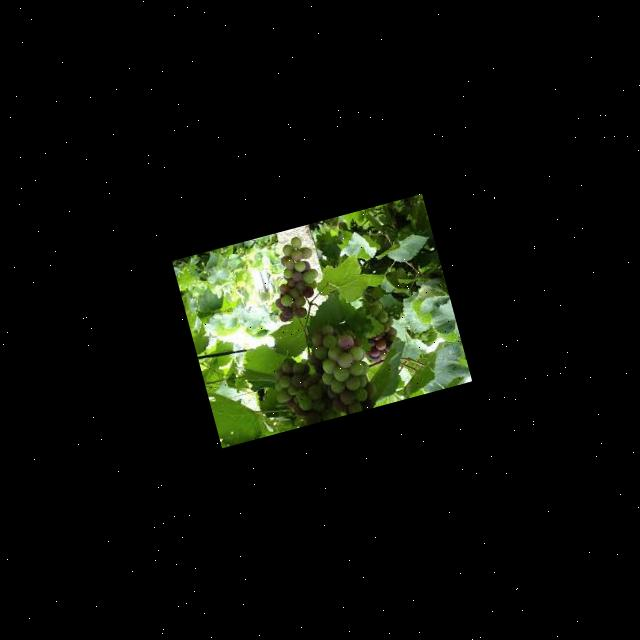grape: (260, 314, 380, 430), (258, 232, 327, 324)
